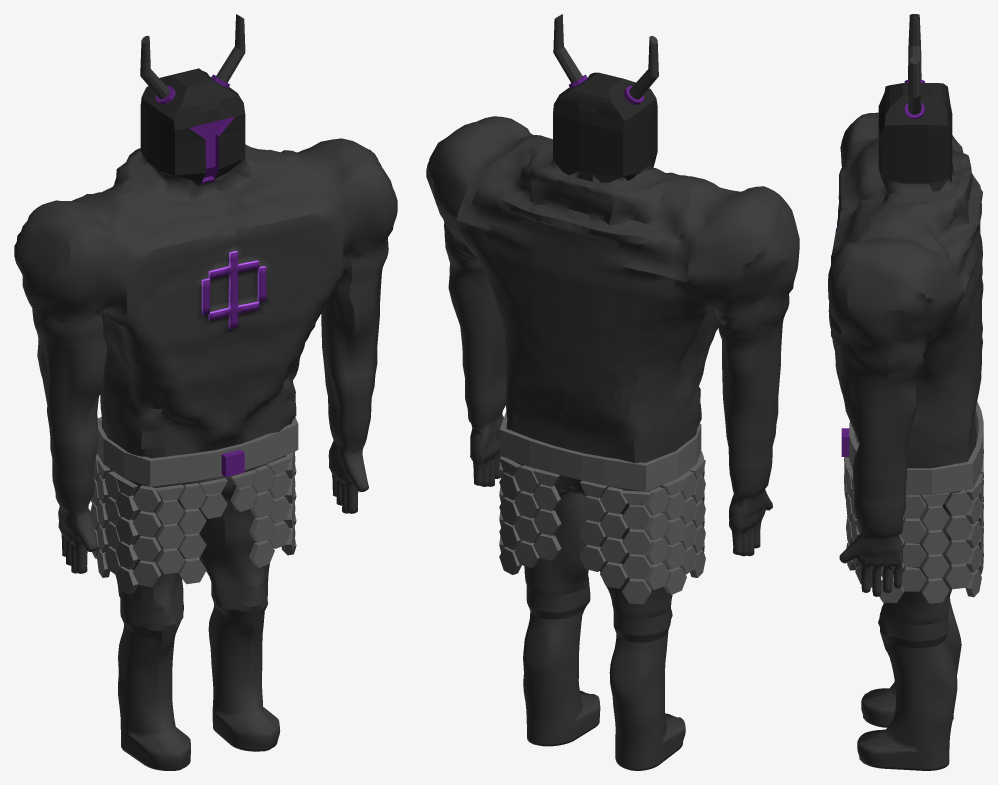
File: Boss_Schwert_Boden.fbx
3 views of the same model, side by side, from view 1: azimuth 30°, elevation 25°; view 2: azimuth 150°, elevation 25°; view 3: azimuth 270°, elevation 25° (orthographic). The views are drawn at different scales.
Parts seen in each view (by area): view 1: Cylinder.001; view 2: Cylinder.001; view 3: Cylinder.001.
Part boxes in pixels (x1,y1,x2,y2): Cylinder.001: (14, 14, 397, 770); Cylinder.001: (426, 14, 799, 770); Cylinder.001: (828, 14, 983, 770).
Bounding box in the file's own units: 182 × 347 × 69.72.
